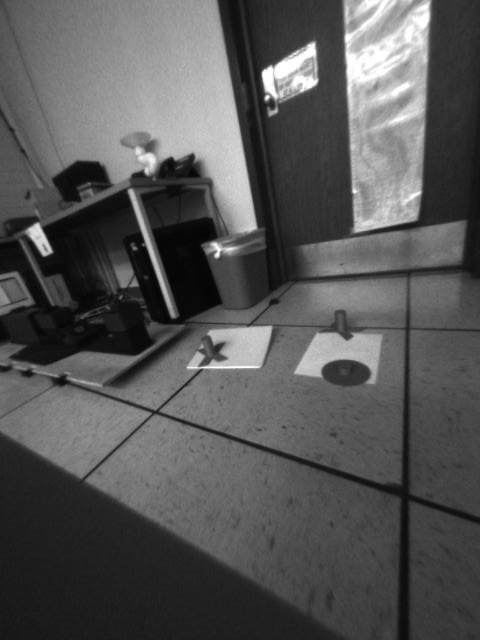X: (315, 309, 366, 342), (195, 334, 226, 367)
